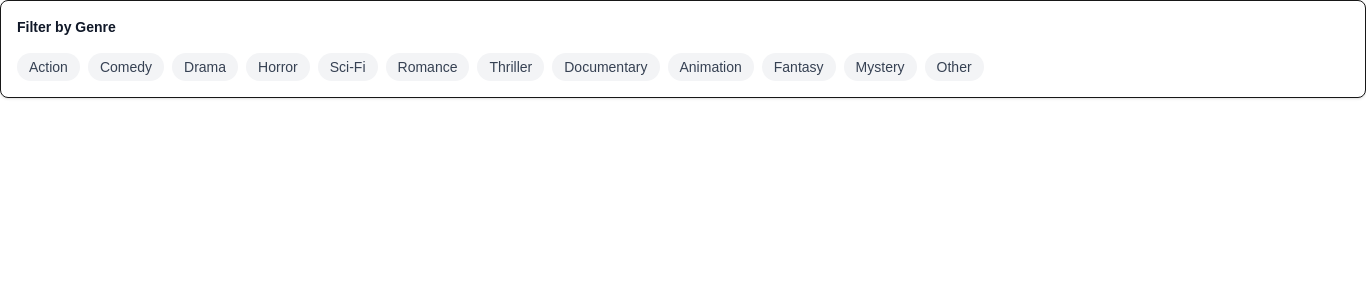
Test case: GenreFilter › should return to basic filter from advanced
This screenshot has width=1366, height=285.
Click the button "Action".
click(48, 67)  # box [17,53,80,81]
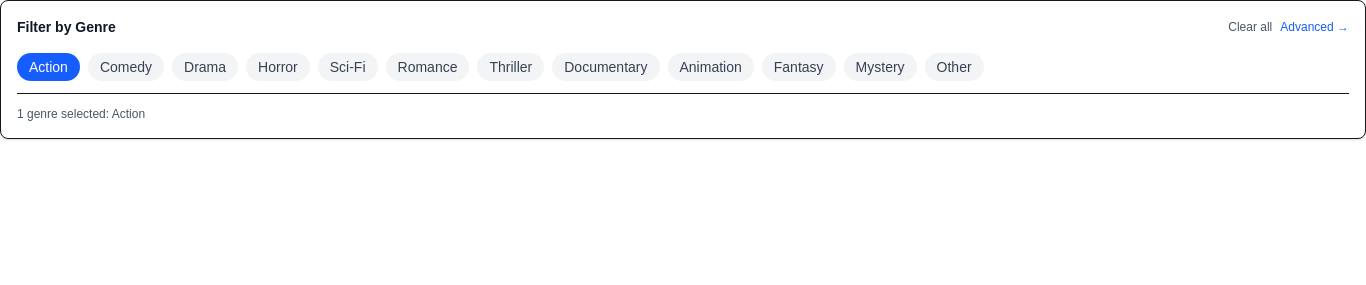
Click the button "Advanced →".
click(1315, 27)  # box [1280,19,1349,35]
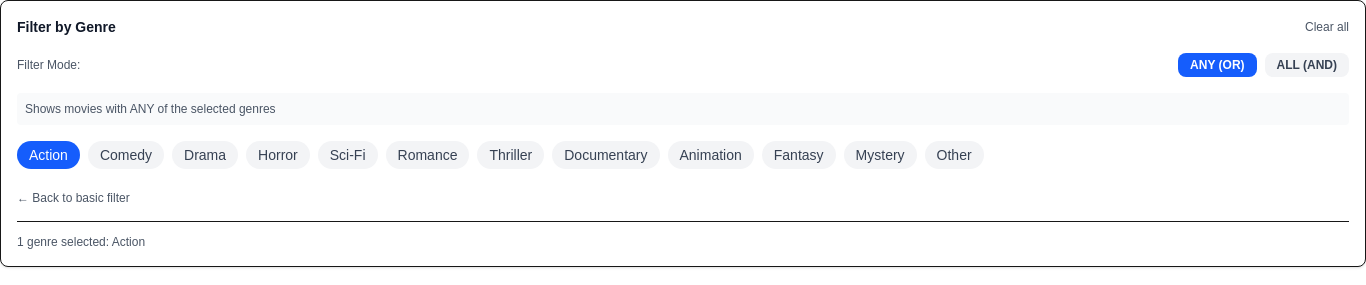
Should see back button
Click the button "← Back to basic filter".
click(73, 198)  # box [17,190,130,206]
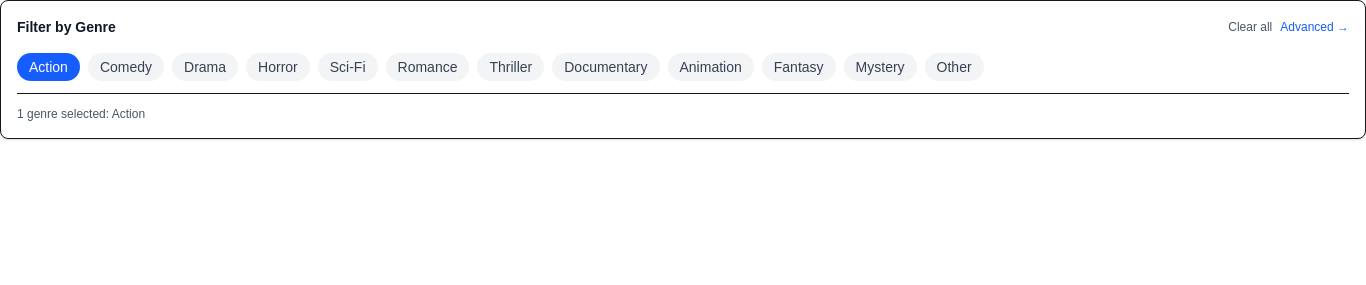
Now the text "Filter Mode:" is gone
